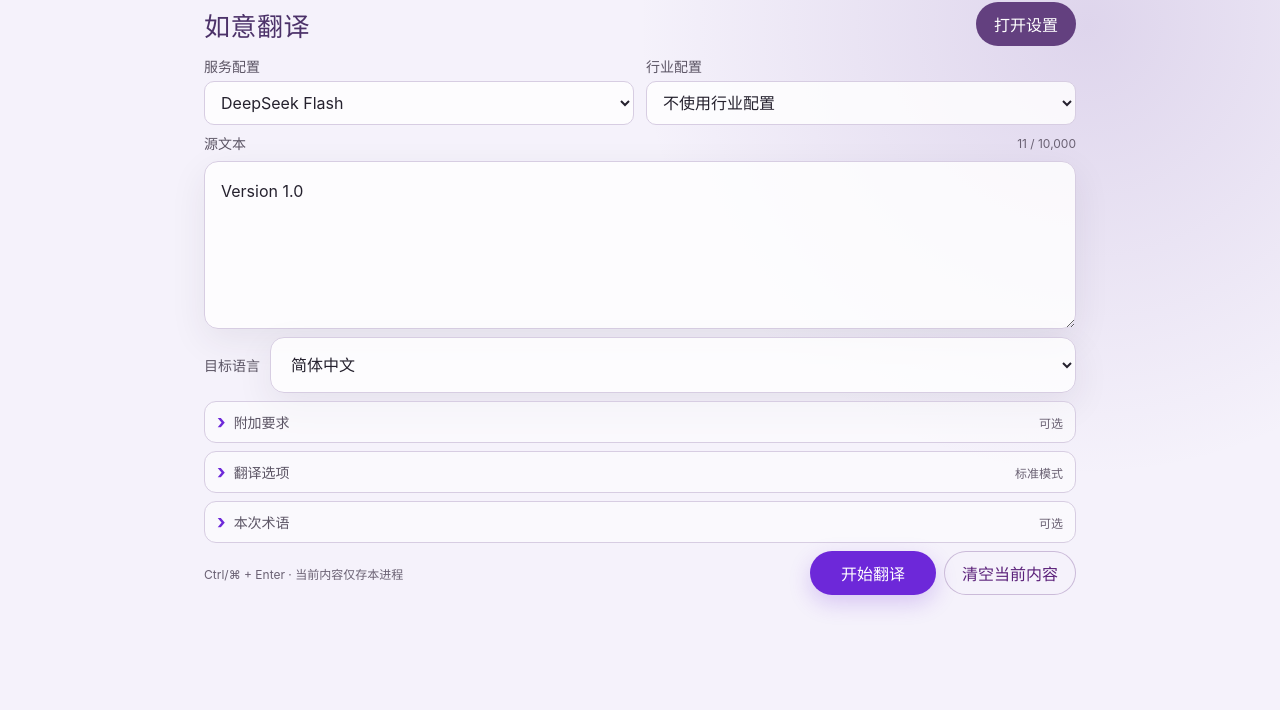
Test: ConfiguredTranslationPage › shows deterministic risks, blocks paste, and copies only after confirmation
This screenshot has width=1280, height=710.
Click the button "开始翻译" at [873, 573], box [810,551,936,595]
(page scrolled)
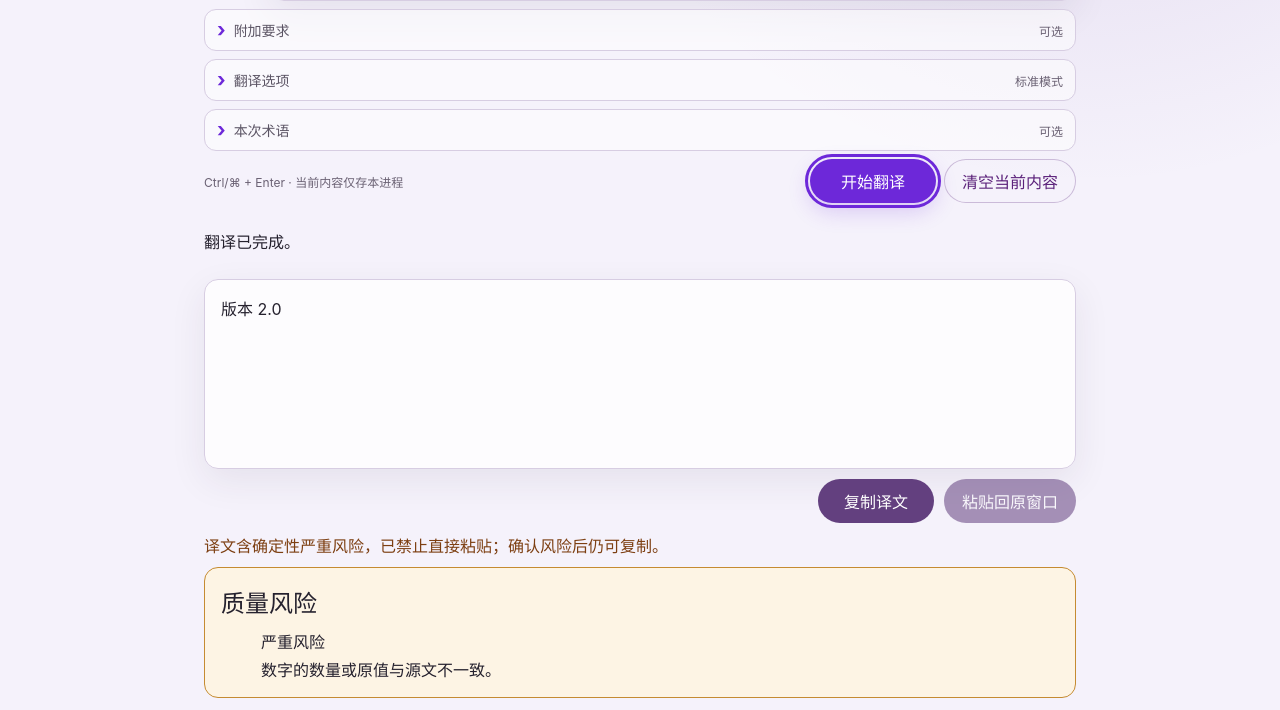
Expected: the heading "质量风险" is shown, [221,589,317,618]
Expected: the text "数字的数量或原值与源文不一致。" is shown, [261,660,501,680]
Expected: the button "粘贴回原窗口" is disabled, [944,479,1076,523]
Click the button "复制译文" at [876, 501], box [818,479,934,523]
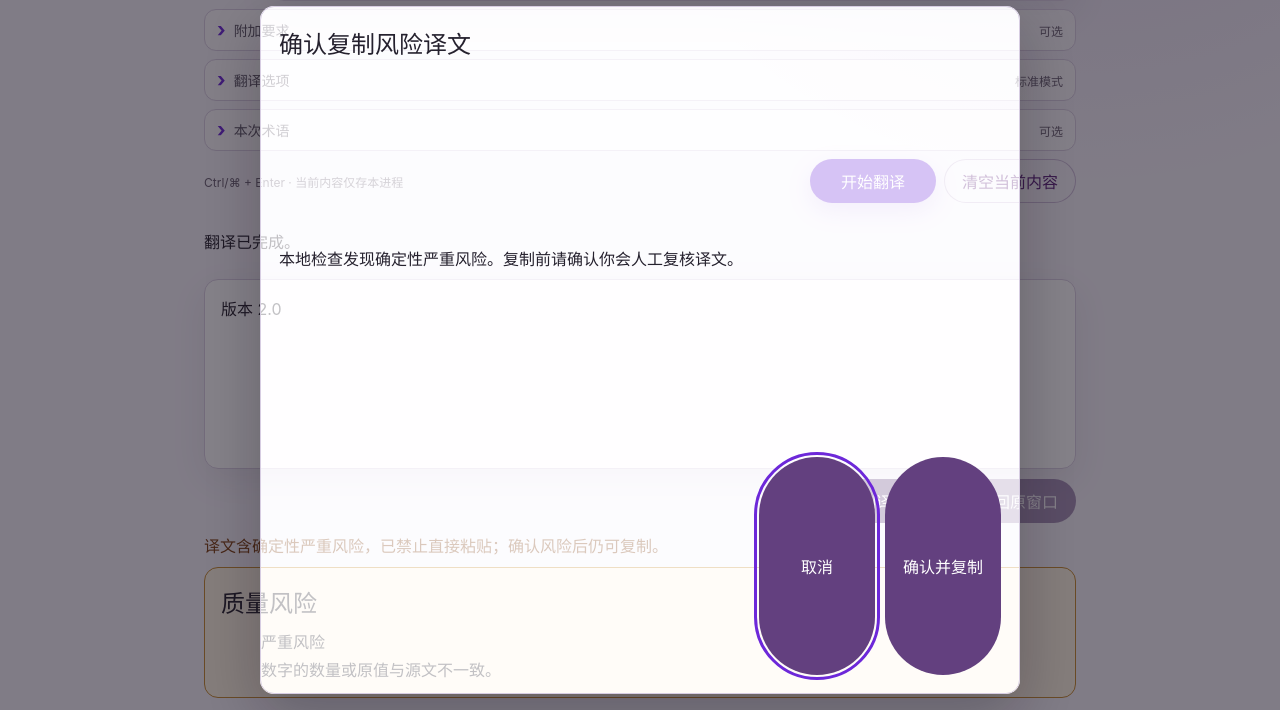
Expected: the dialog "确认复制风险译文" is shown, [260,6,1020,694]
Press Escape
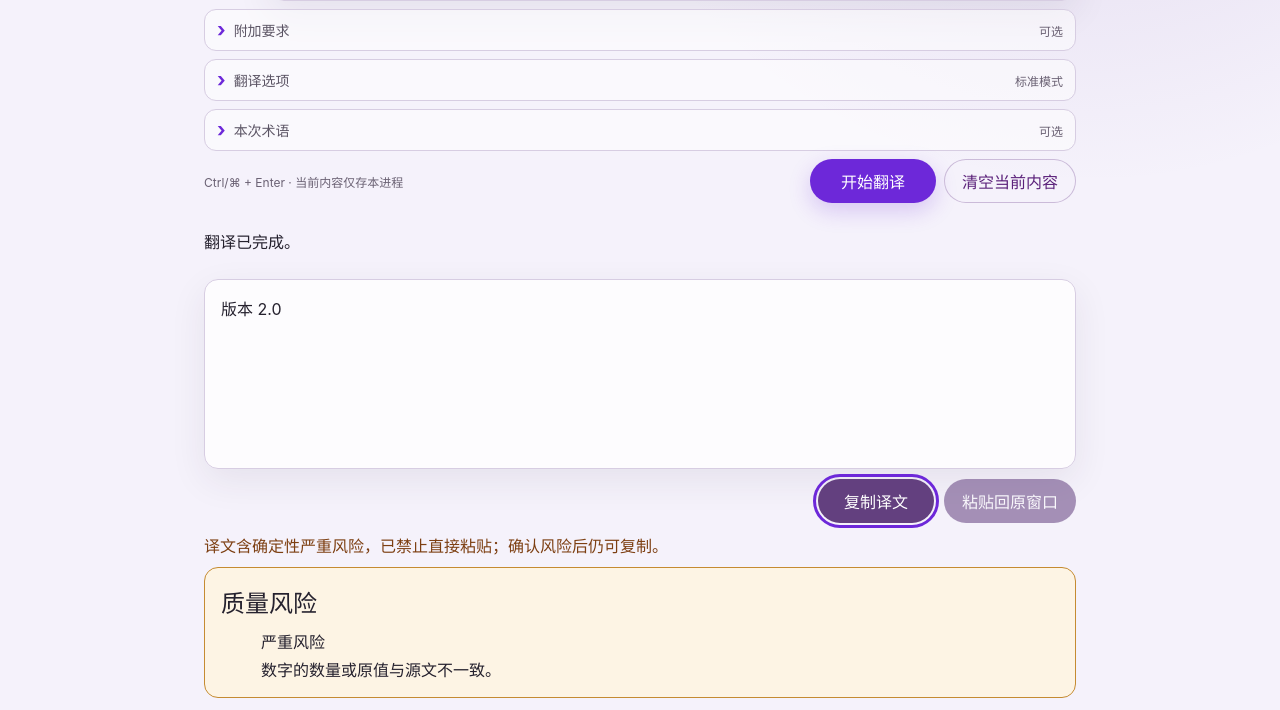
Expected: the heading "确认复制风险译文" is gone
Click the button "复制译文" at [876, 501], box [818,479,934,523]
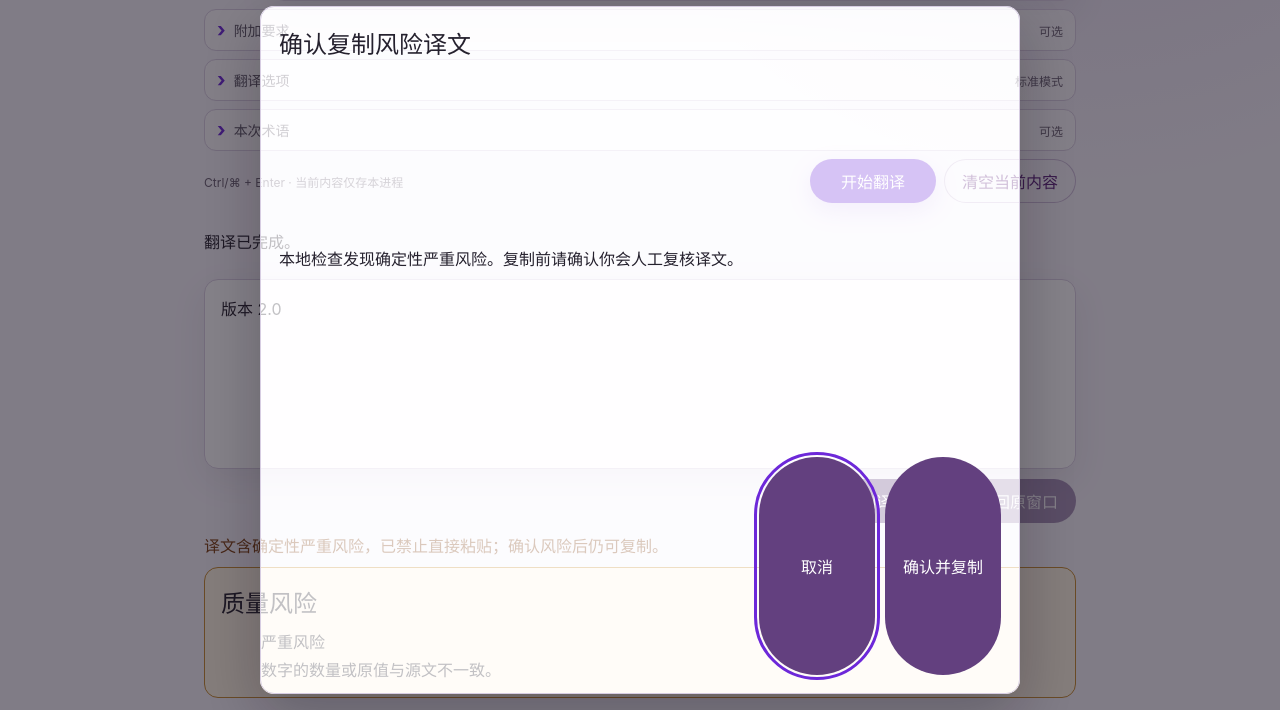
Click the button "确认并复制" at [943, 566], box [885,457,1001,675]
(page scrolled)
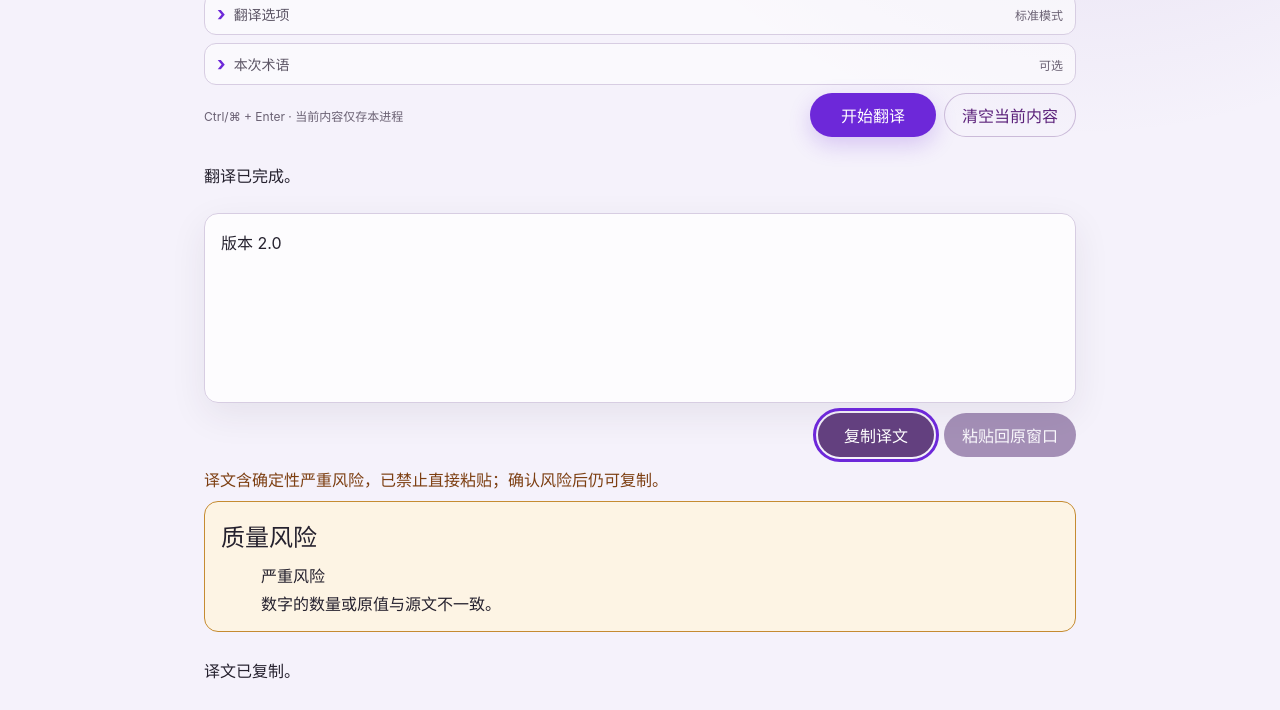
Expected: the text "译文已复制。" is shown, [204,661,300,681]
